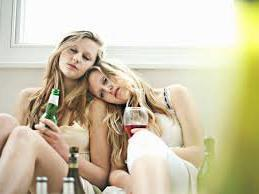Drunk: (57, 37, 94, 77), (91, 70, 133, 103)
